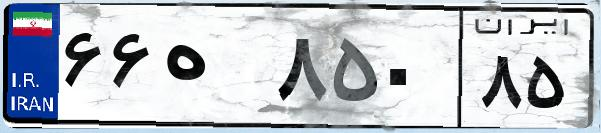0: (385, 28, 445, 110)
5: (330, 28, 385, 110), (525, 38, 570, 115)
6: (57, 26, 110, 100), (110, 28, 158, 98)
8: (270, 28, 330, 110), (475, 38, 525, 113)
ه: (158, 20, 270, 120)
